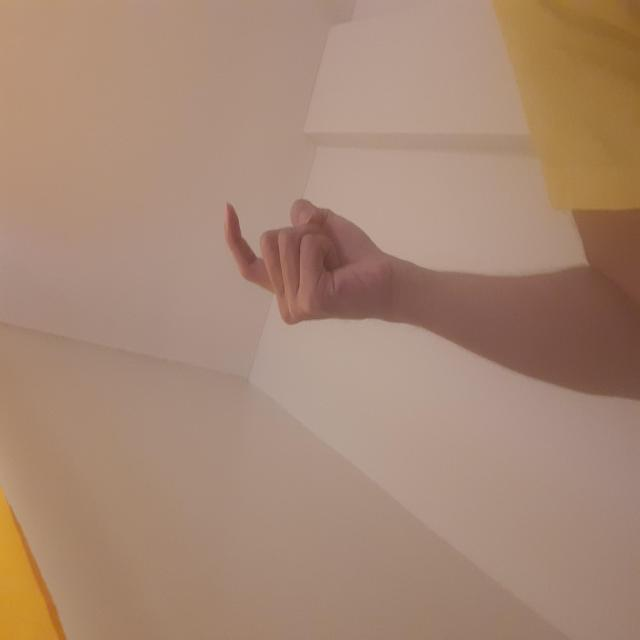X: (316, 223, 440, 382)
